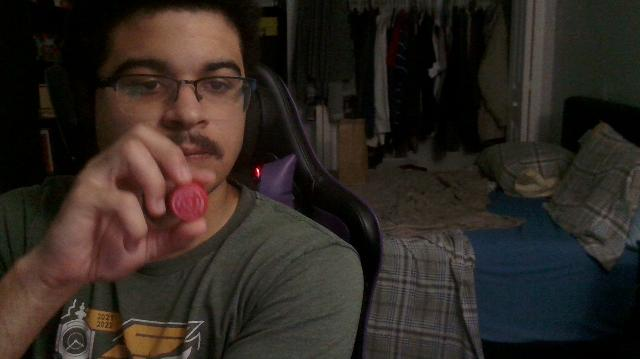cap: (169, 182, 209, 223)
